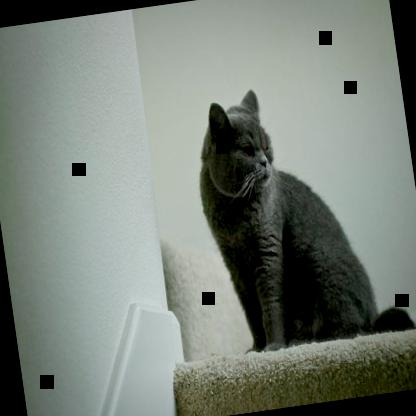cat: (185, 69, 415, 357)
